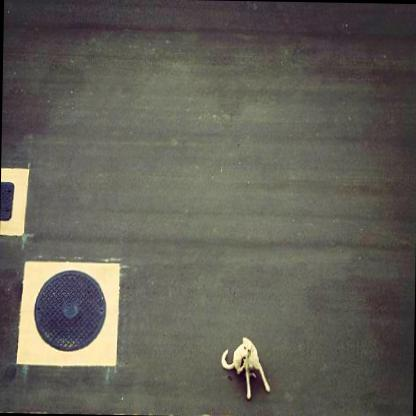manholes: (26, 256, 111, 359)
